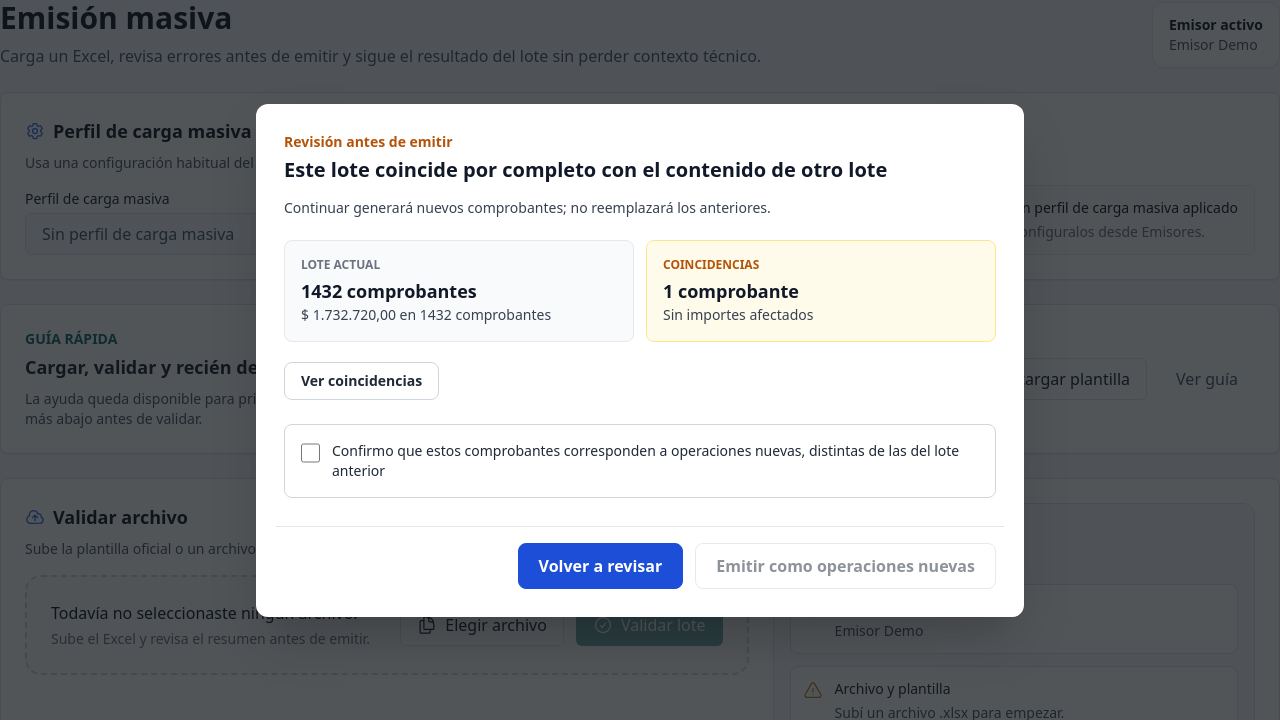
it: LotesComprobantesView › un GET 409 con cambio material invalida clave y confirmación fiscal
The image size is (1280, 720).
Click the button "Ver coincidencias": click(362, 380) [284,362,439,400]
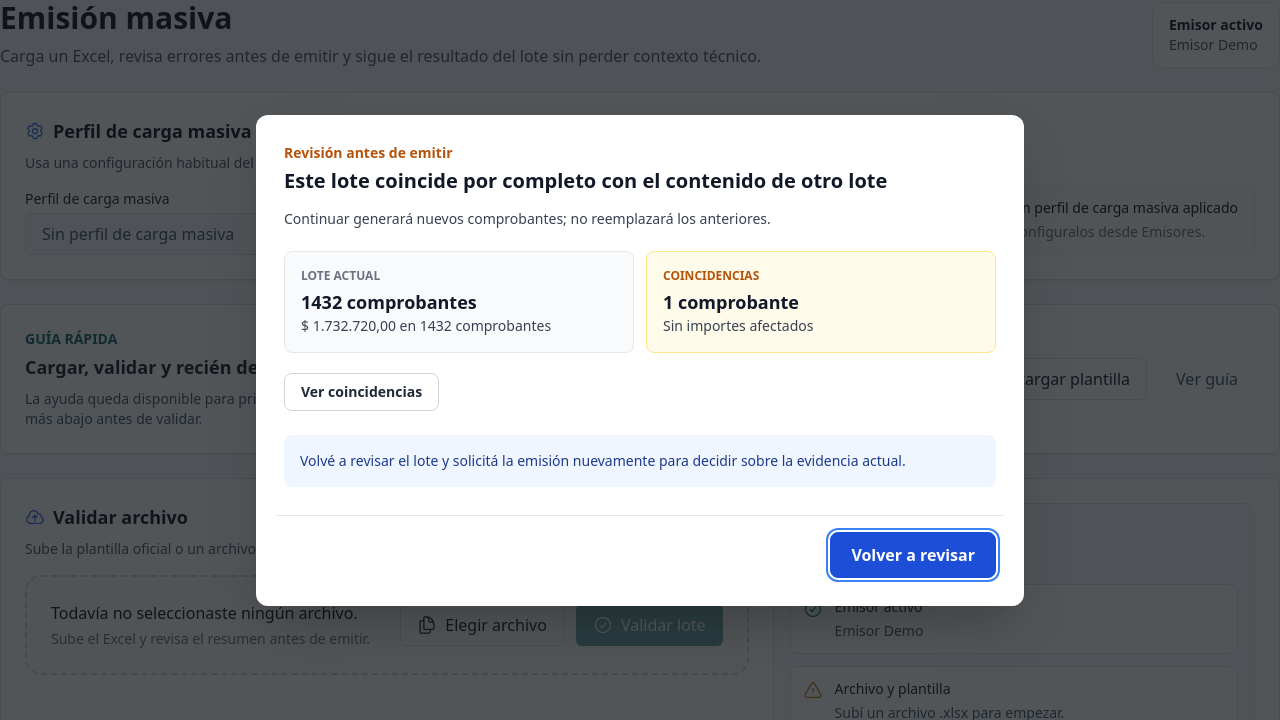
Expected: the checkbox is gone
